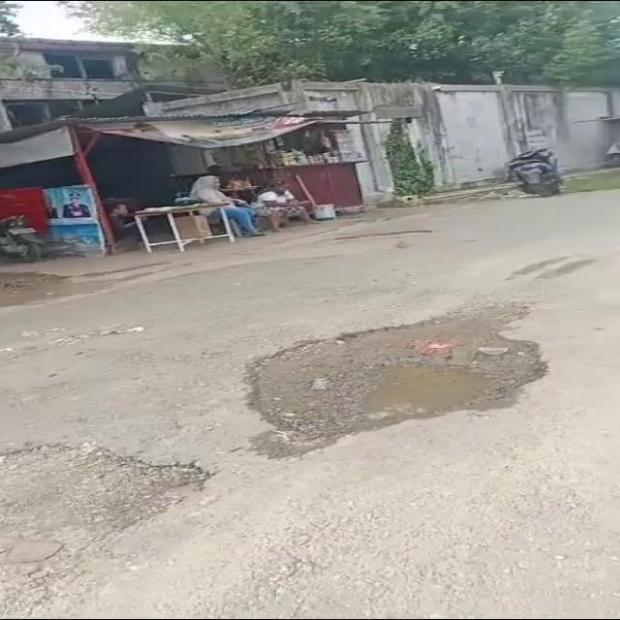lubang: (249, 305, 545, 457), (0, 444, 209, 616)
